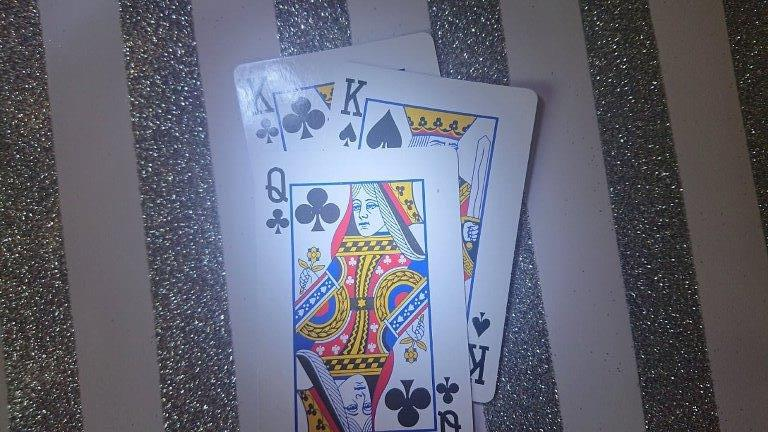KC: (239, 66, 288, 149)
KS: (335, 69, 369, 151)
QC: (260, 160, 302, 244)
